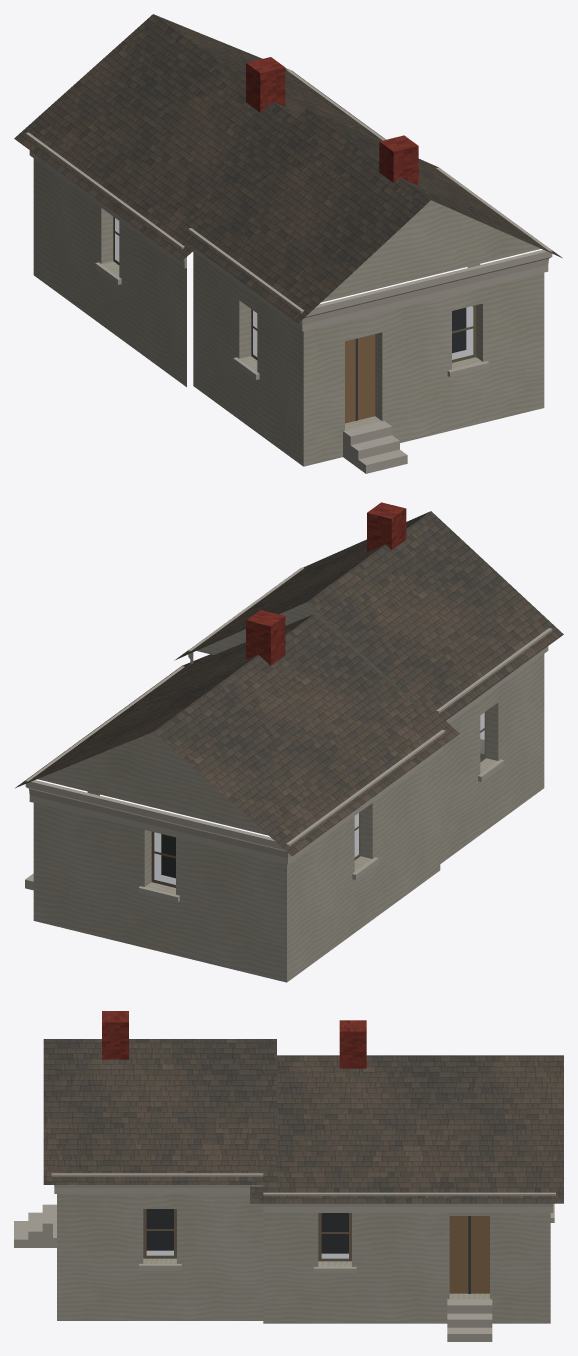
The model's file is oleary_cottage_1871__cottage_1871.glb.
The picture shows the model from 3 angles, top to bottom: view 1: azimuth 30°, elevation 25°; view 2: azimuth 150°, elevation 25°; view 3: azimuth 270°, elevation 25°; orthographic projection. The views are drawn at different scales.
Parts seen in each view (by area): view 1: oleary_cottage_1871__cottage_1871; view 2: oleary_cottage_1871__cottage_1871; view 3: oleary_cottage_1871__cottage_1871.
Boxes of the visible parts, <box> form: oleary_cottage_1871__cottage_1871: <box>14,14,562,473</box>; oleary_cottage_1871__cottage_1871: <box>15,502,563,982</box>; oleary_cottage_1871__cottage_1871: <box>14,1011,563,1341</box>.
Size of the model in its own units: 7.36 by 6.2 by 12.26.
Materials: 9 (3 with a texture image).
